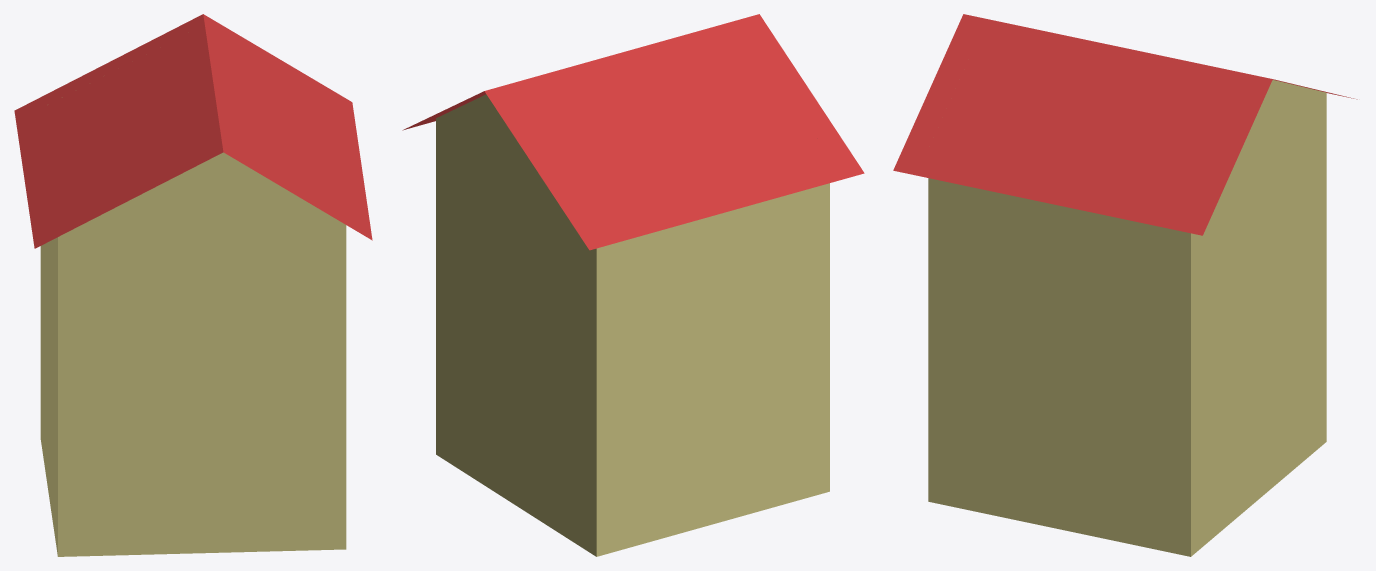
3 renders of one model, left to right at view 1: azimuth 30°, elevation 25°; view 2: azimuth 150°, elevation 25°; view 3: azimuth 270°, elevation 25°, orthographic. The views are drawn at different scales.
Bounding box in the file's own units: 9.03 × 8.93 × 9.11.
